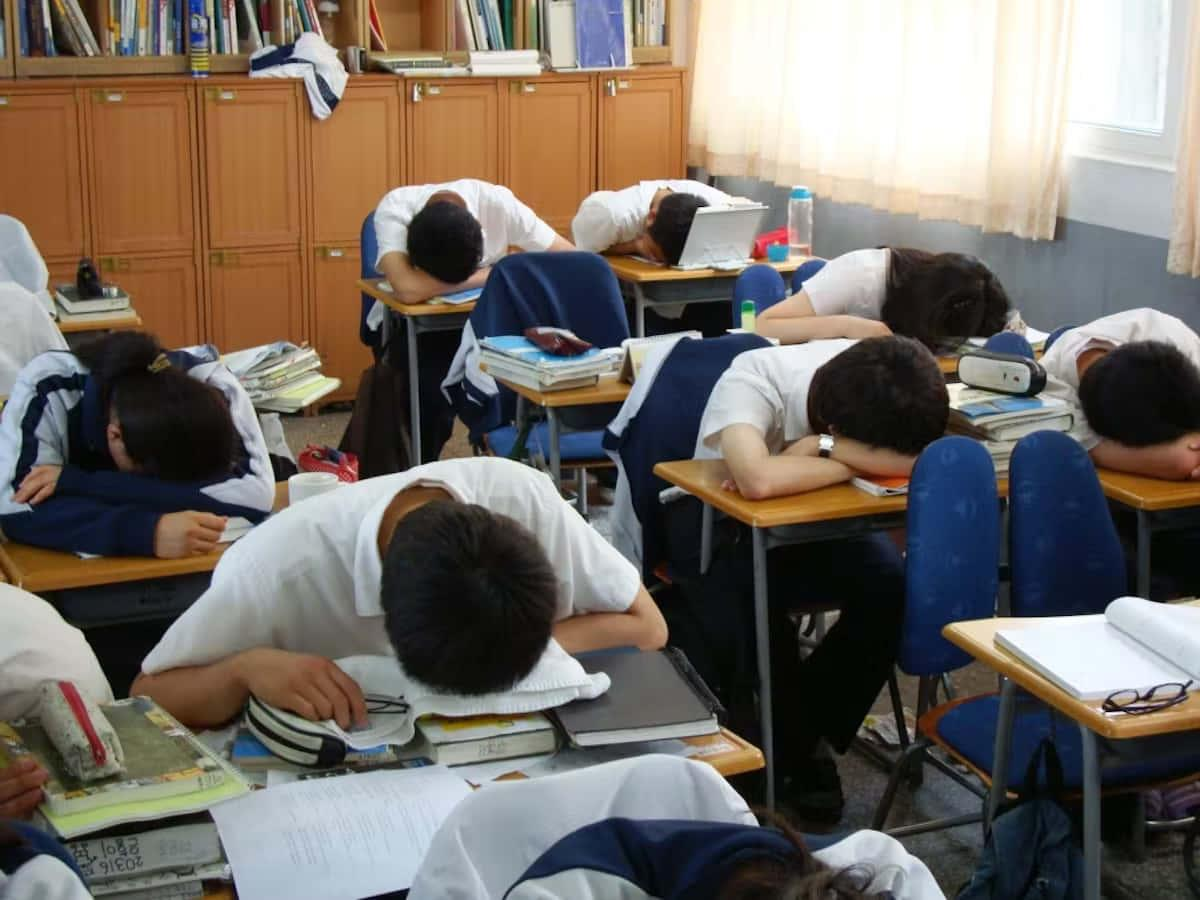sleep: (141, 453, 667, 729), (0, 340, 265, 556), (698, 331, 984, 497), (1033, 303, 1200, 485), (731, 245, 1009, 351), (376, 175, 573, 307), (569, 178, 775, 266)
